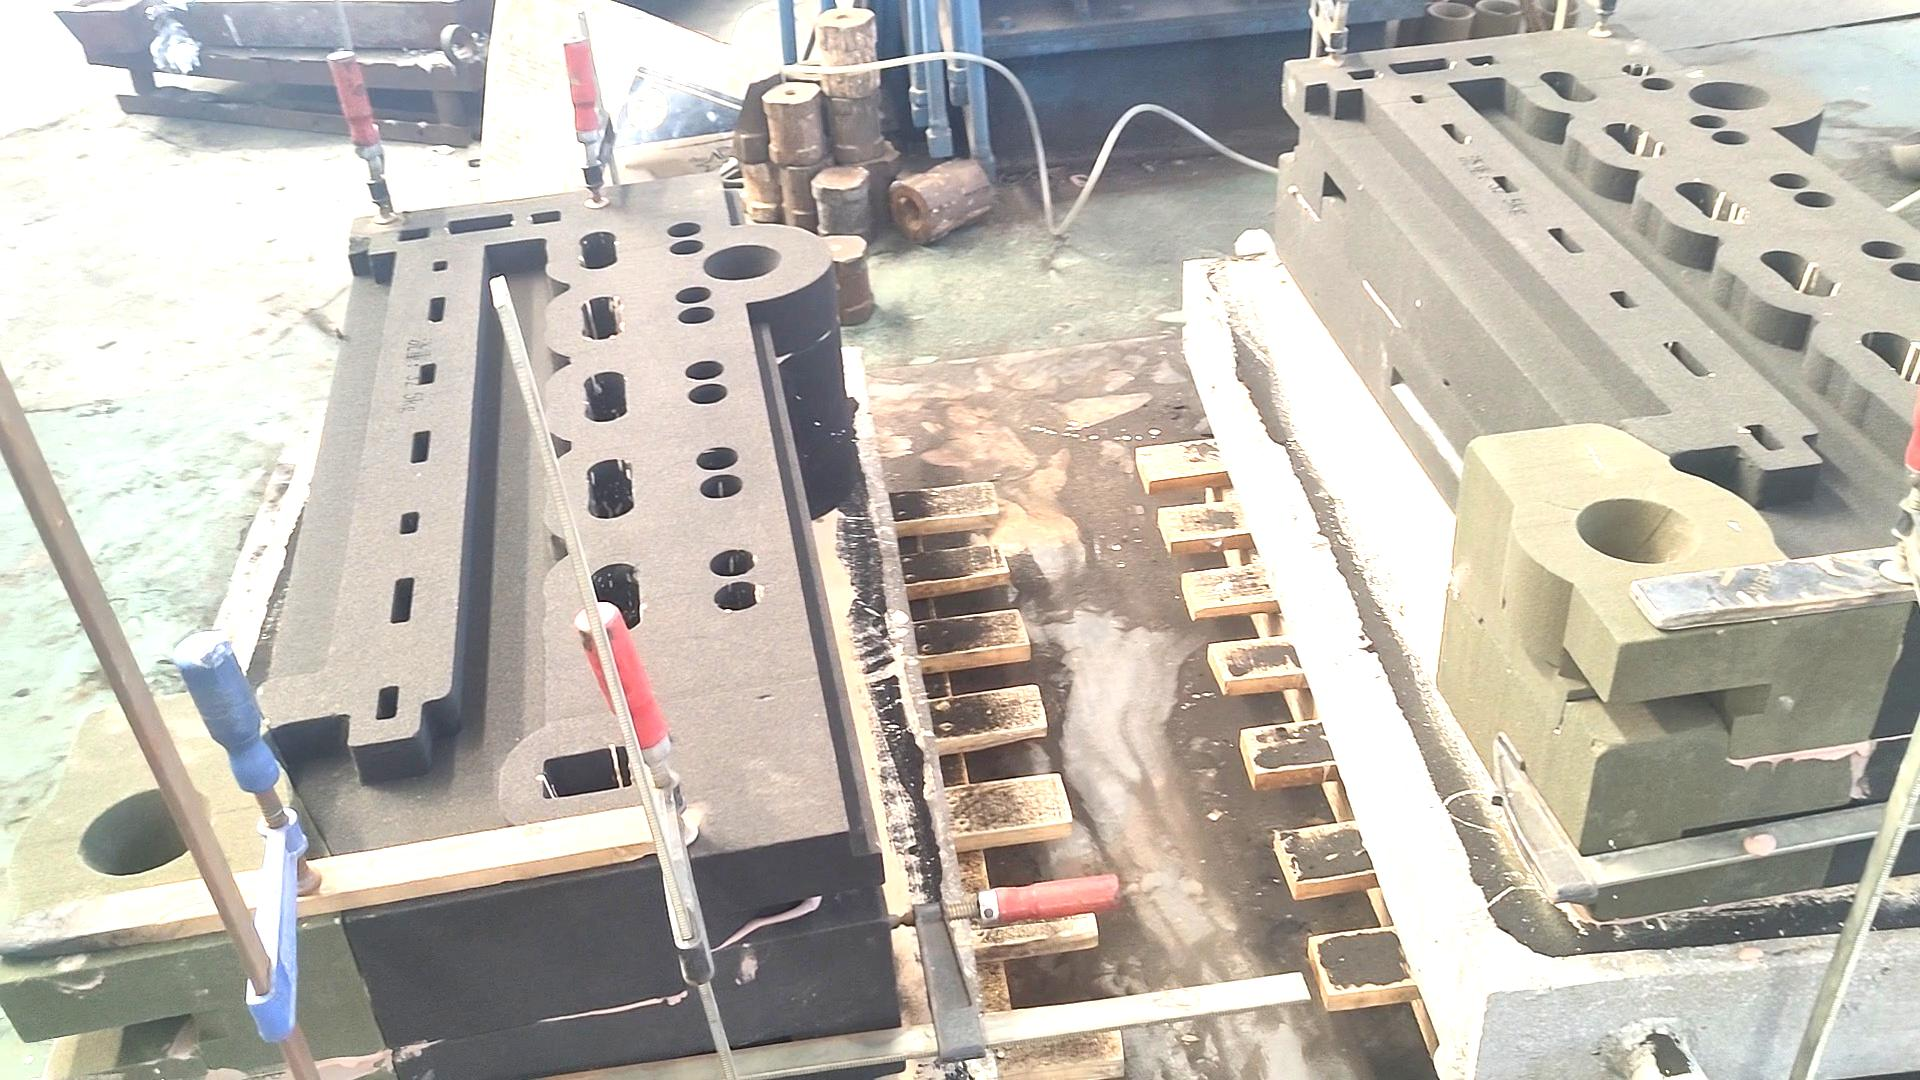pouring hole: (78, 781, 208, 876), (1576, 497, 1702, 564), (704, 244, 783, 281), (1689, 82, 1771, 109), (1425, 3, 1476, 18), (1476, 1, 1524, 16), (1534, 1, 1578, 15)
